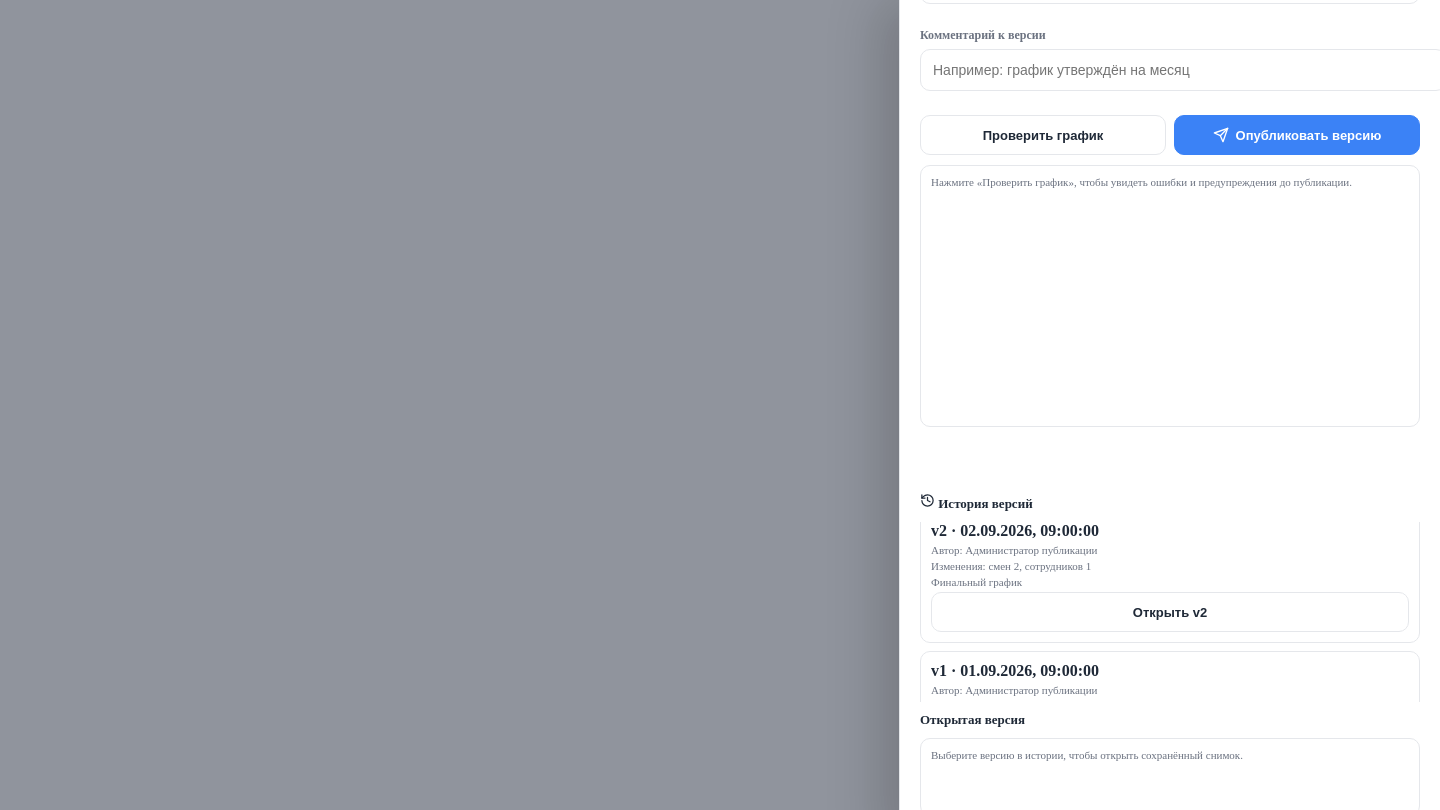
Test: schedule publication controls › renders immutable publication diff with employee names and before/after values
(page scrolled)
What coordinates should you click on to do the following:
click the button "Открыть v2"
I would click on:
 (1170, 612)
Its box is [931,592,1409,632].
(page scrolled)
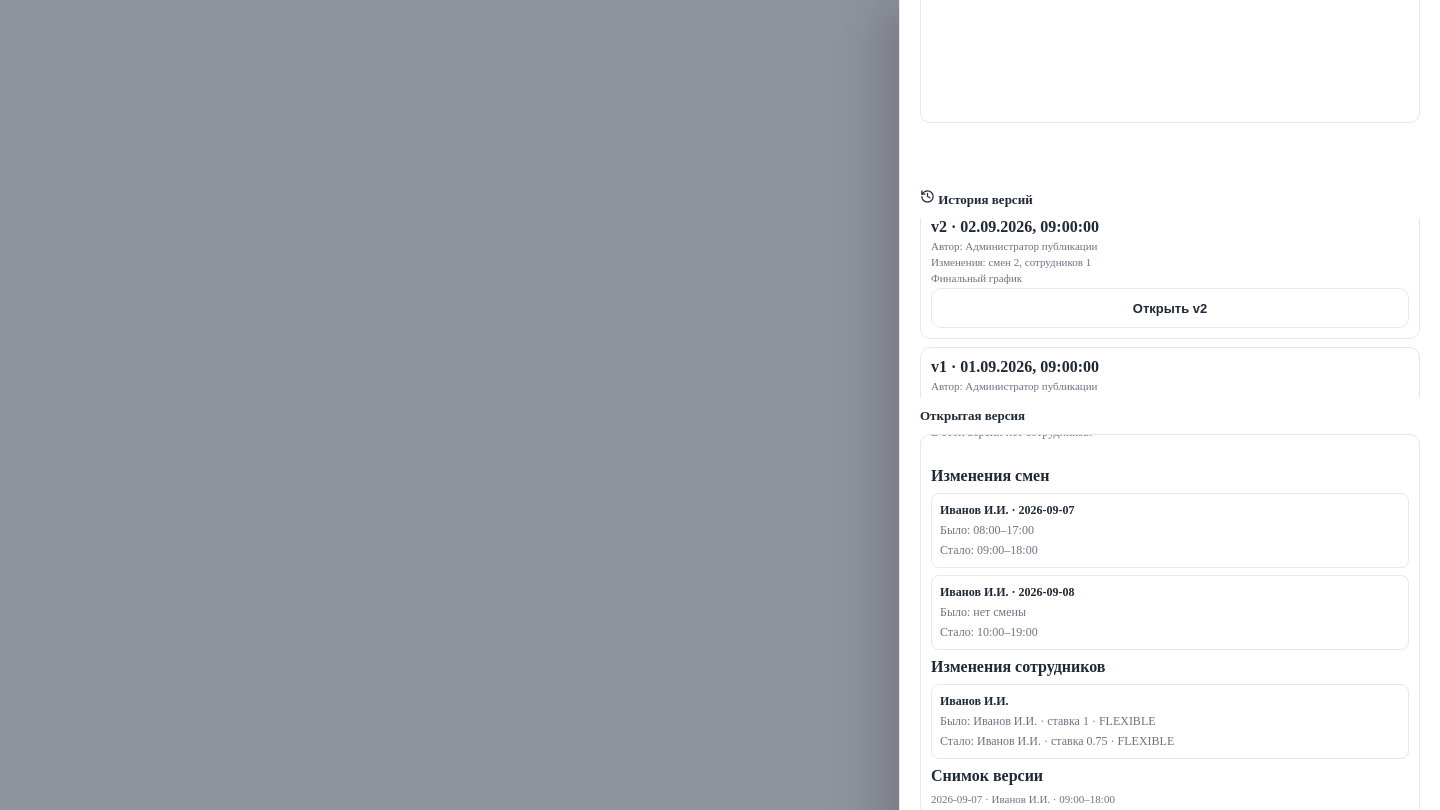
expect the text "Изменения смен" is shown: met, box [931,467,1049,484]
expect the text "Иванов И.И. · 2026-09-07" is shown: met, box [940,503,1075,517]
expect the text "Было: 08:00–17:00" is shown: met, box [940,523,1034,537]
